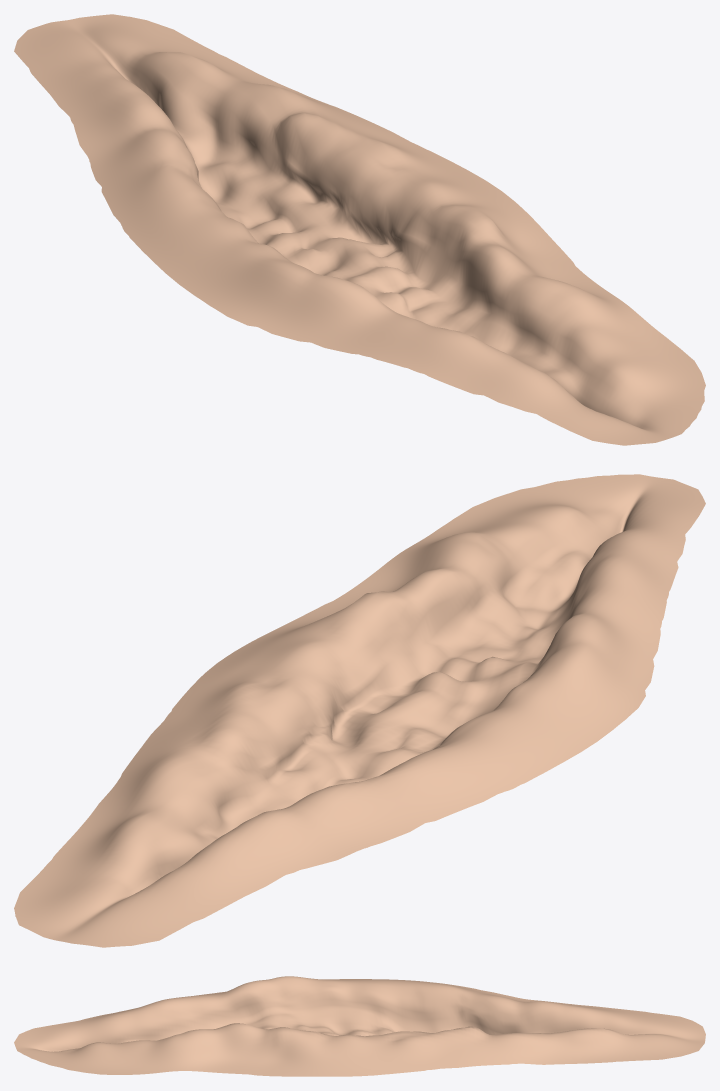
Rendered from Stage_4.glb.
The picture shows the model from 3 angles, top to bottom: view 1: azimuth 30°, elevation 25°; view 2: azimuth 150°, elevation 25°; view 3: azimuth 270°, elevation 25°; orthographic projection. The views are drawn at different scales.
Parts seen in each view (by area): view 1: Stage4; view 2: Stage4; view 3: Stage4.
Boxes of the visible parts, <box> form: Stage4: <box>14,14,705,445</box>; Stage4: <box>14,474,705,947</box>; Stage4: <box>14,976,705,1076</box>.
Size of the model in its own units: 0.5887 by 0.1319 by 1.76.
